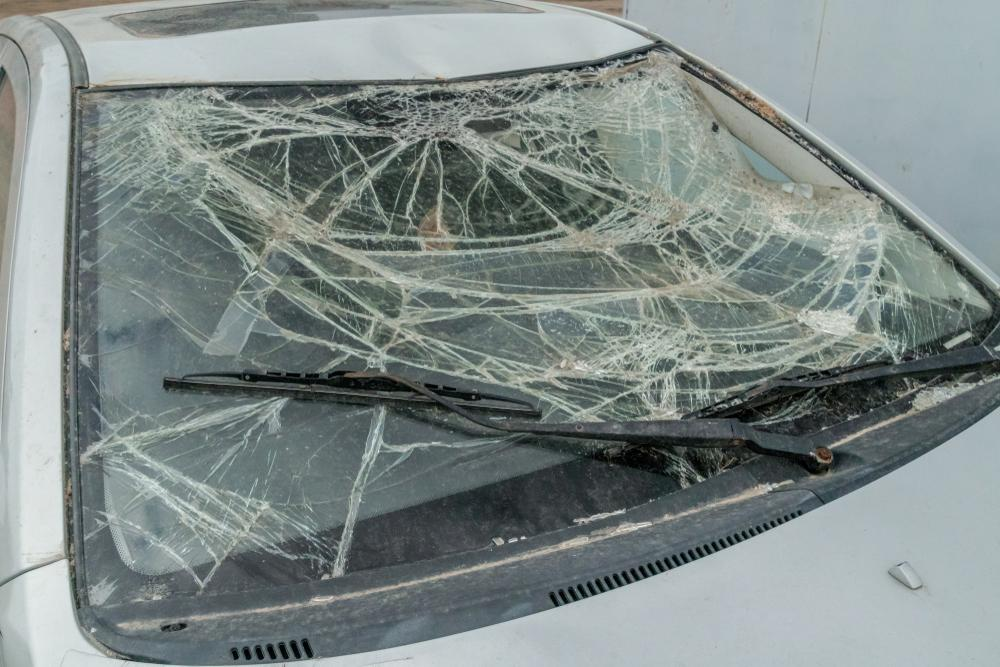glass shatter: (77, 48, 1000, 608)
